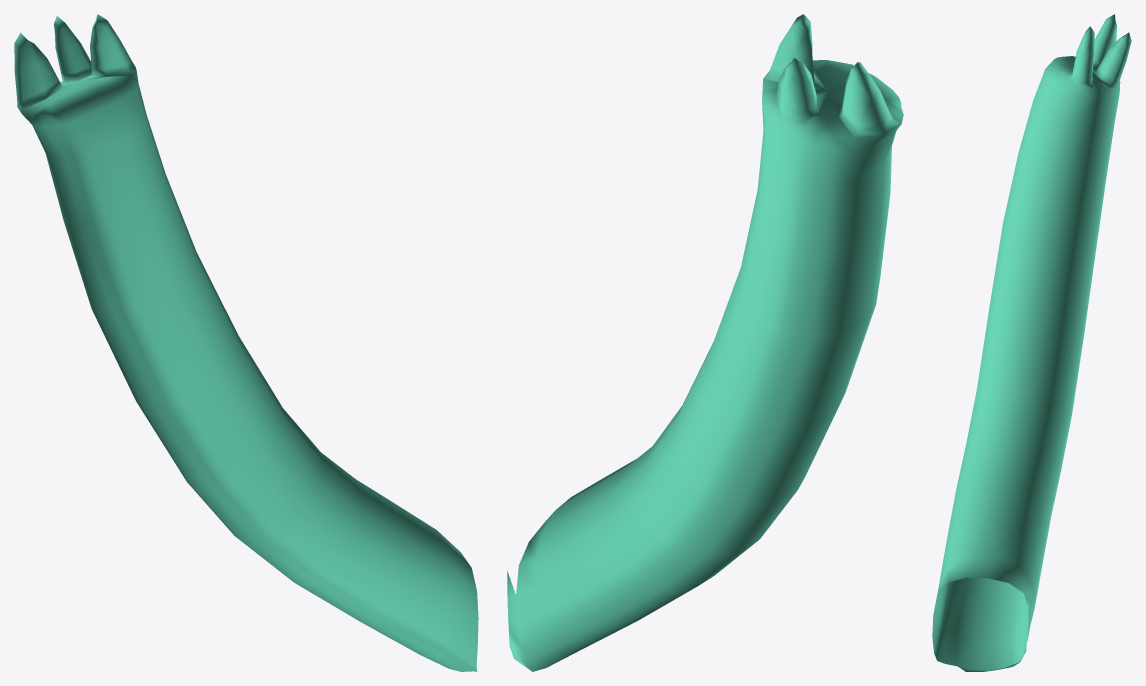
File: brazoDer.obj
3 views of the same model, side by side, from view 1: azimuth 30°, elevation 25°; view 2: azimuth 150°, elevation 25°; view 3: azimuth 270°, elevation 25° (orthographic). The views are drawn at different scales.
Visible parts, largest first — view 1: pCylinder29; view 2: pCylinder29; view 3: pCylinder29.
Part boxes in pixels (x1,y1,x2,y2): pCylinder29: (14,14,478,671); pCylinder29: (507,14,903,671); pCylinder29: (932,14,1131,671).
Size of the model in its own units: 0.5429 by 0.9353 by 0.3155.
1 material, 1 textured.
